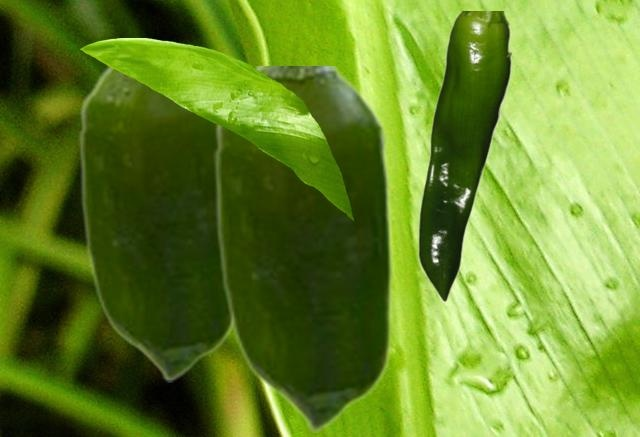green_chili: (213, 66, 392, 431), (78, 64, 232, 381), (417, 11, 510, 301)
